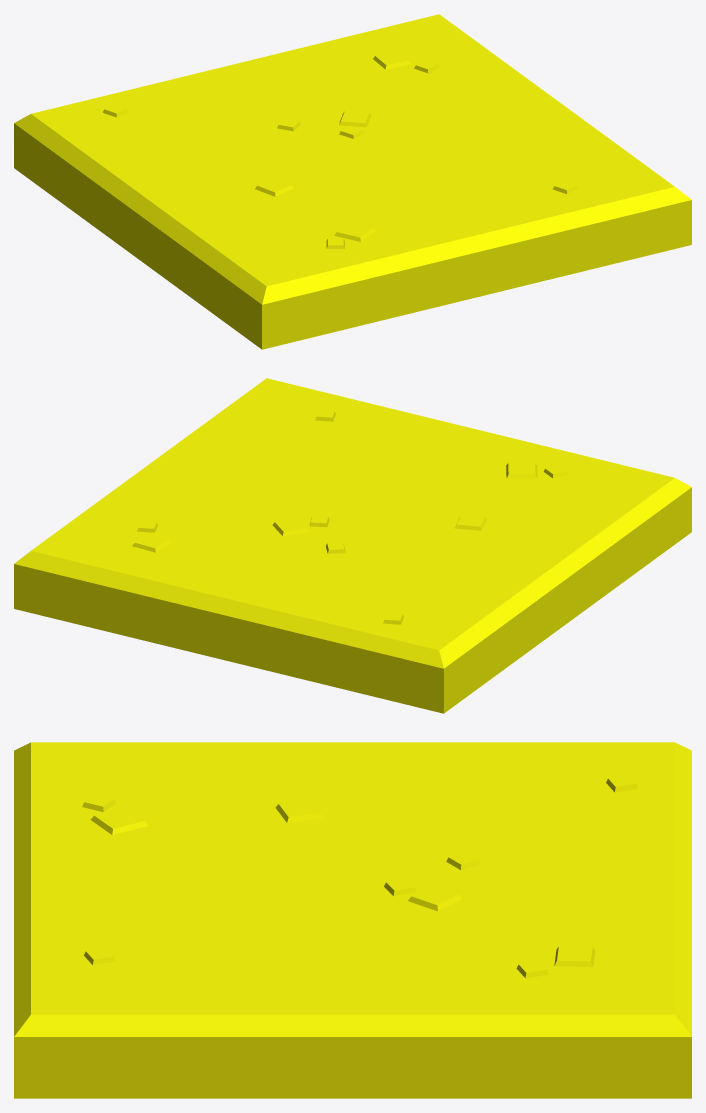
File: kaykit-floor-dirt.glb
3 views of the same model, one above another, from view 1: azimuth 30°, elevation 25°; view 2: azimuth 150°, elevation 25°; view 3: azimuth 270°, elevation 25° (orthographic). The views are drawn at different scales.
Parts seen in each view (by area): view 1: floor_dirt; view 2: floor_dirt; view 3: floor_dirt.
Boxes of the visible parts, x1,y1,x2,y2 form: floor_dirt: [14, 14, 691, 349]; floor_dirt: [14, 378, 691, 713]; floor_dirt: [14, 742, 691, 1098].
Size of the model in its own units: 4 by 0.5298 by 4.
